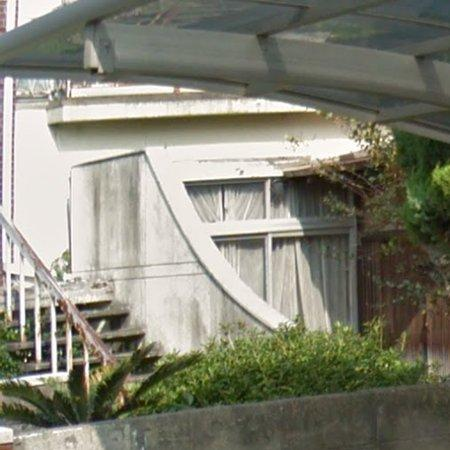stairs: (0, 207, 143, 383)
